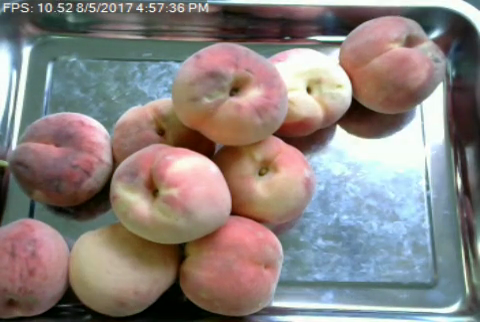Peach: (173, 41, 288, 145), (111, 146, 232, 242), (338, 15, 445, 115), (68, 220, 176, 316), (7, 111, 114, 207), (178, 217, 281, 315), (213, 134, 311, 227), (264, 48, 353, 138), (0, 219, 69, 316)
